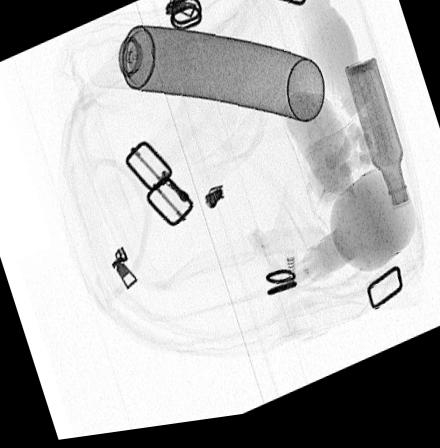Sprayer: (84, 25, 324, 132)
